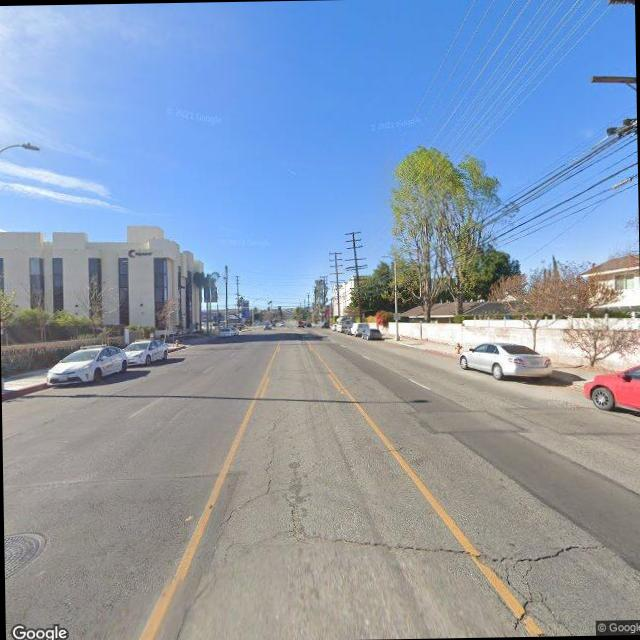crack: (214, 474, 612, 640), (218, 400, 286, 530)
